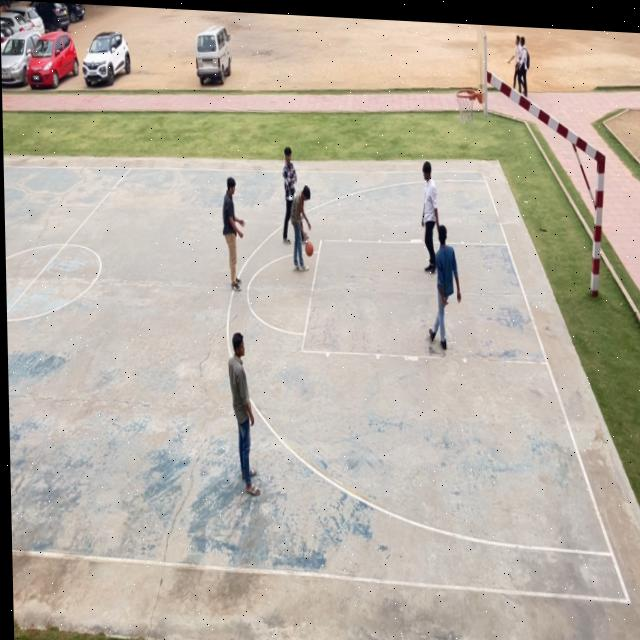basketball: (304, 240, 314, 258)
hoop: (454, 85, 477, 131)
